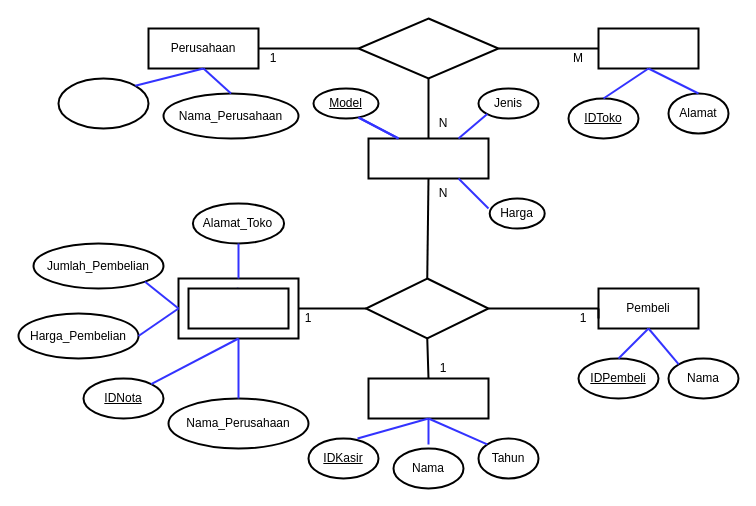
This 756x506 diagram has some shape labels left out. Each missing label, with the centre of its shape:
IDPerusahaan: (x=103, y=103)
Jual: (x=426, y=308)
Kasir: (x=428, y=398)
Makanan: (x=428, y=158)
Nota: (x=238, y=308)
Produksi: (x=428, y=48)
Toko: (x=648, y=48)
